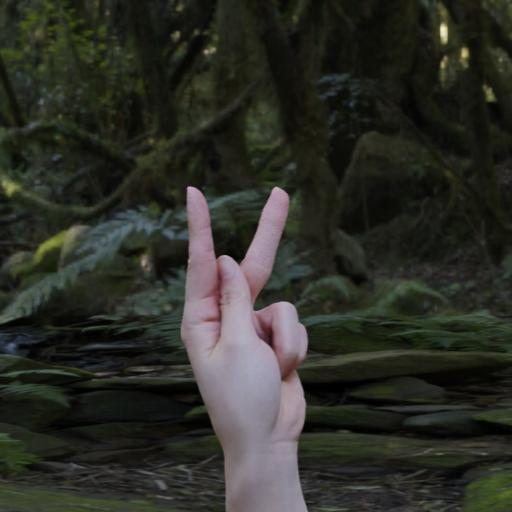K: (175, 180, 313, 445)
